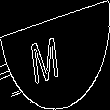M_N: (38, 26, 72, 84)
